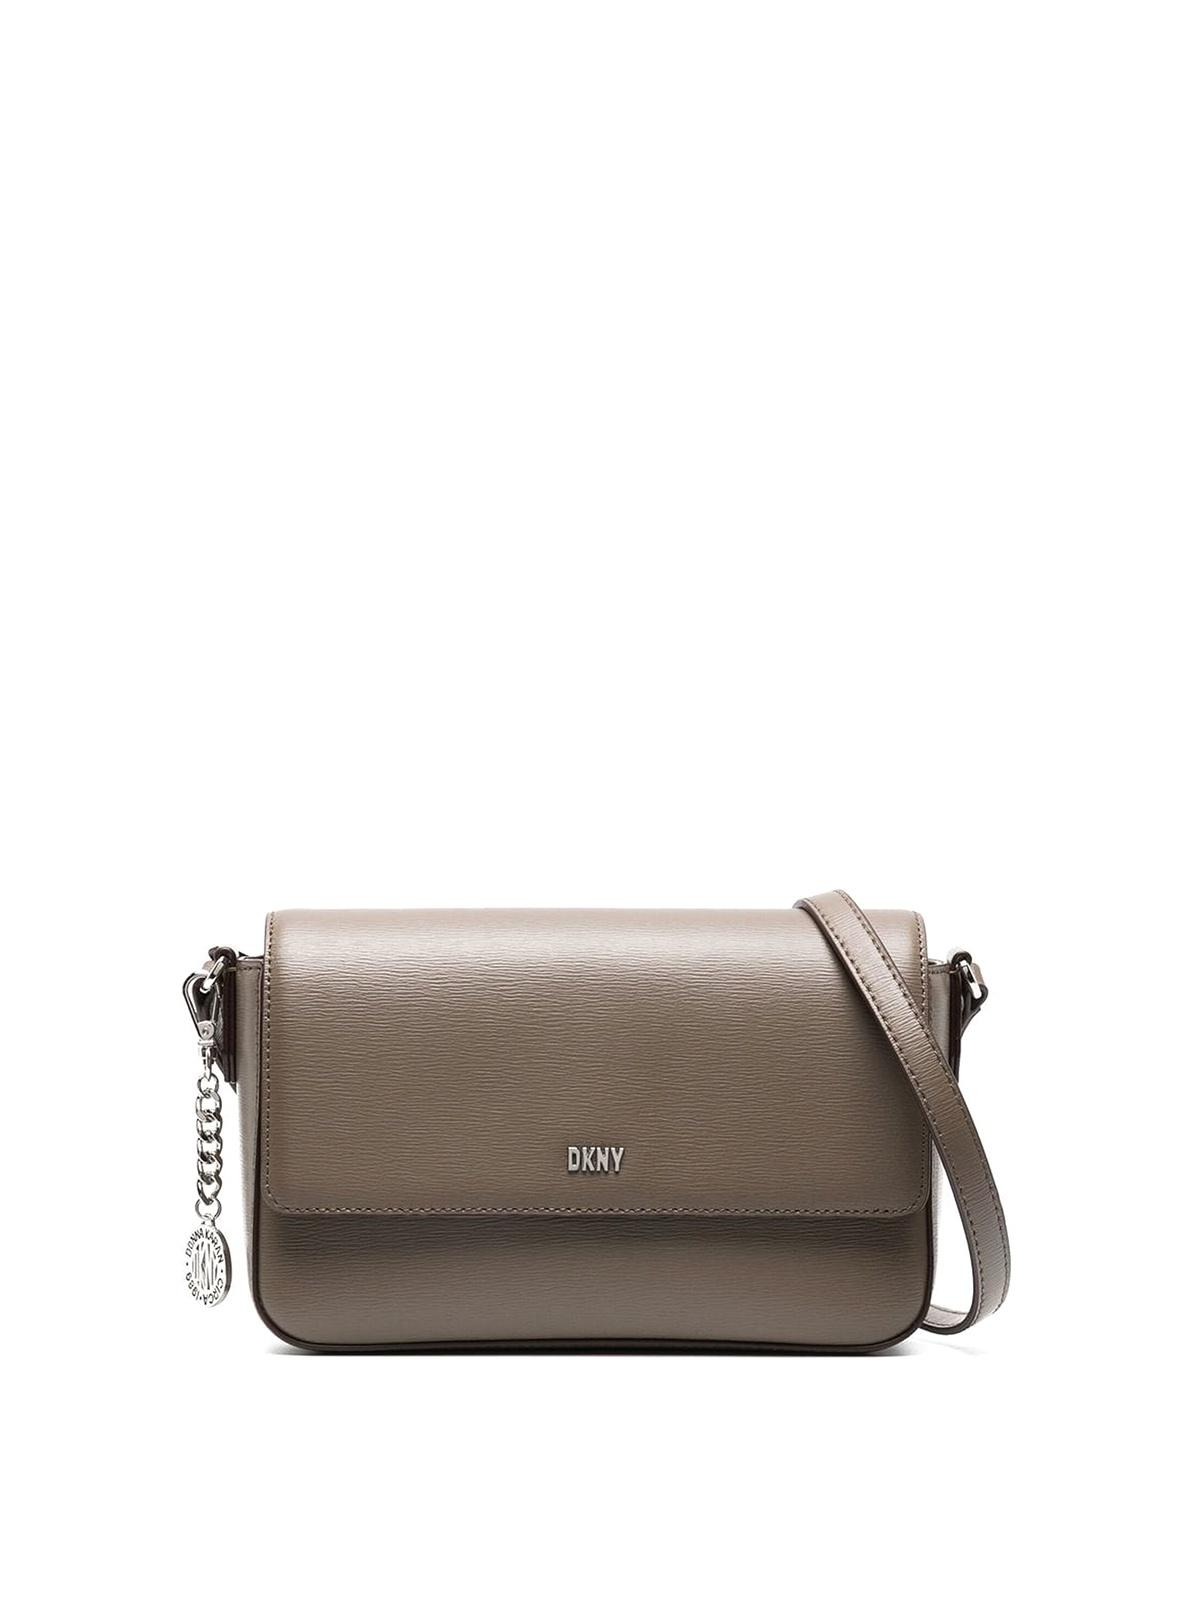DKNY: (568, 1145, 625, 1172)
